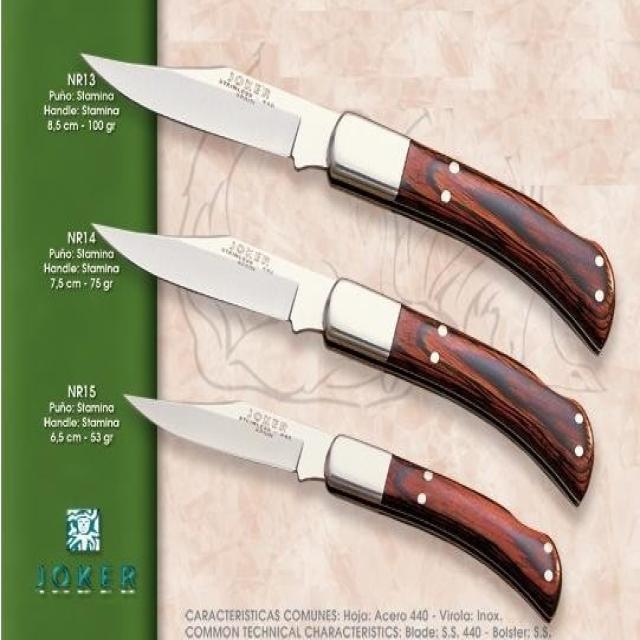knife: (73, 35, 620, 361), (85, 210, 603, 517), (119, 380, 575, 632)
